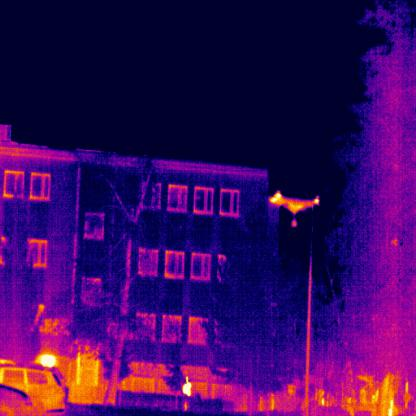drone: (268, 189, 318, 226)
